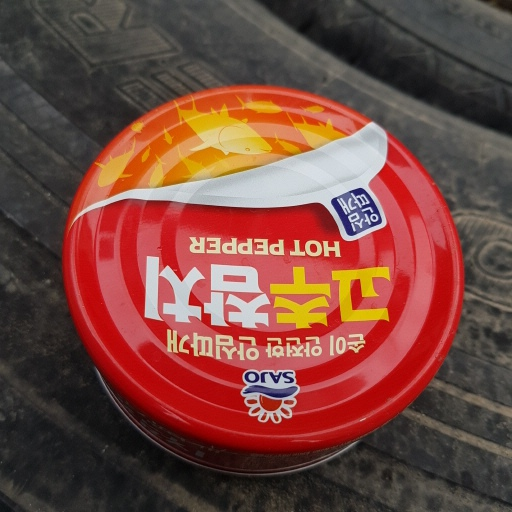Metal_1: (64, 84, 465, 479)
